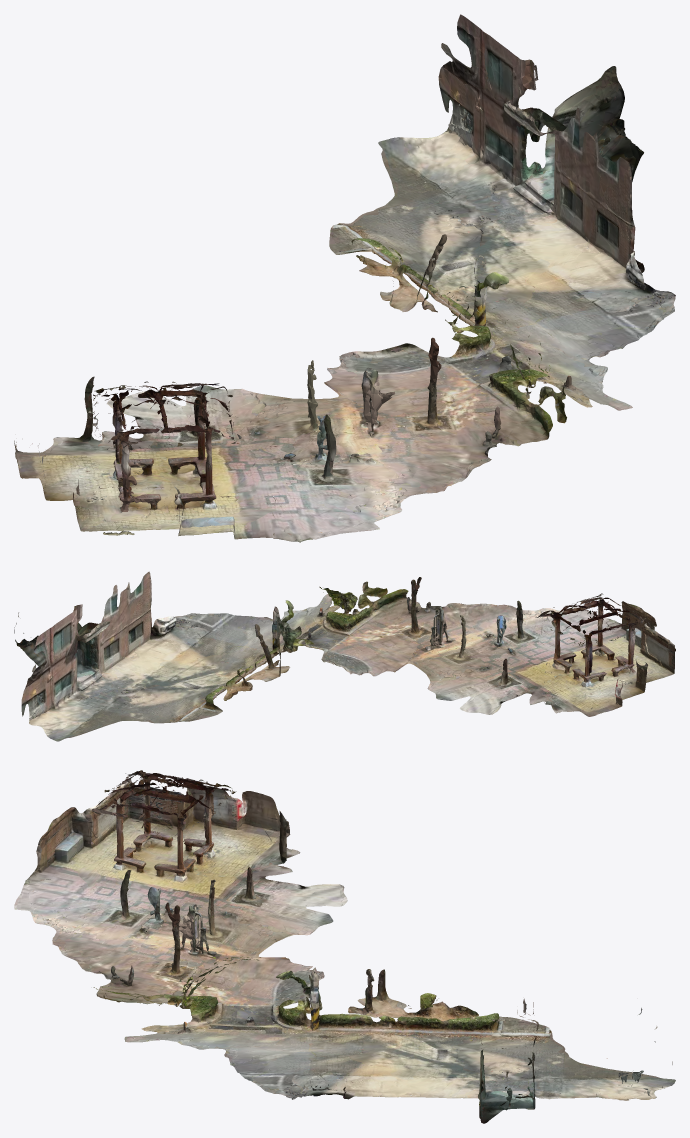
The model's file is pack2.glb.
3 renders of one model, top to bottom at view 1: azimuth 30°, elevation 25°; view 2: azimuth 150°, elevation 25°; view 3: azimuth 270°, elevation 25°, orthographic. The views are drawn at different scales.
Size of the model in its own units: 29.53 by 4.83 by 26.31.
Materials: 1 (1 with a texture image).
